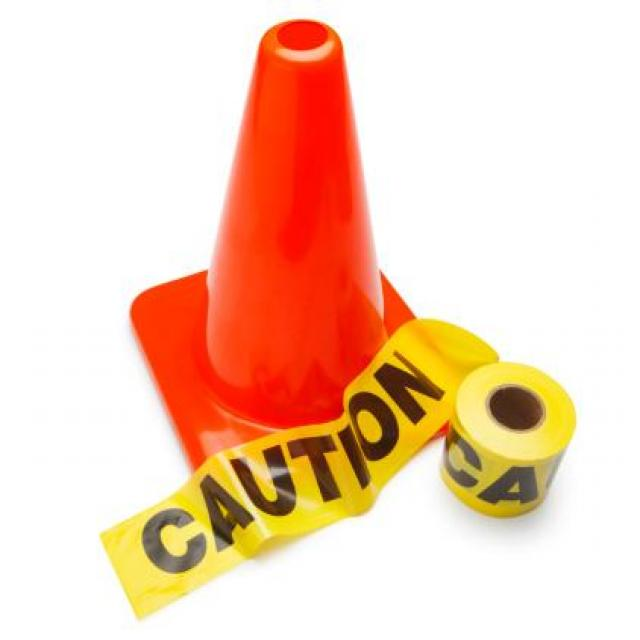Cone: (117, 16, 470, 519)
